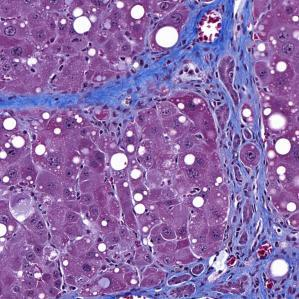fibrosis: (169, 8, 257, 90), (51, 69, 152, 122), (212, 138, 269, 230), (197, 248, 299, 299)
